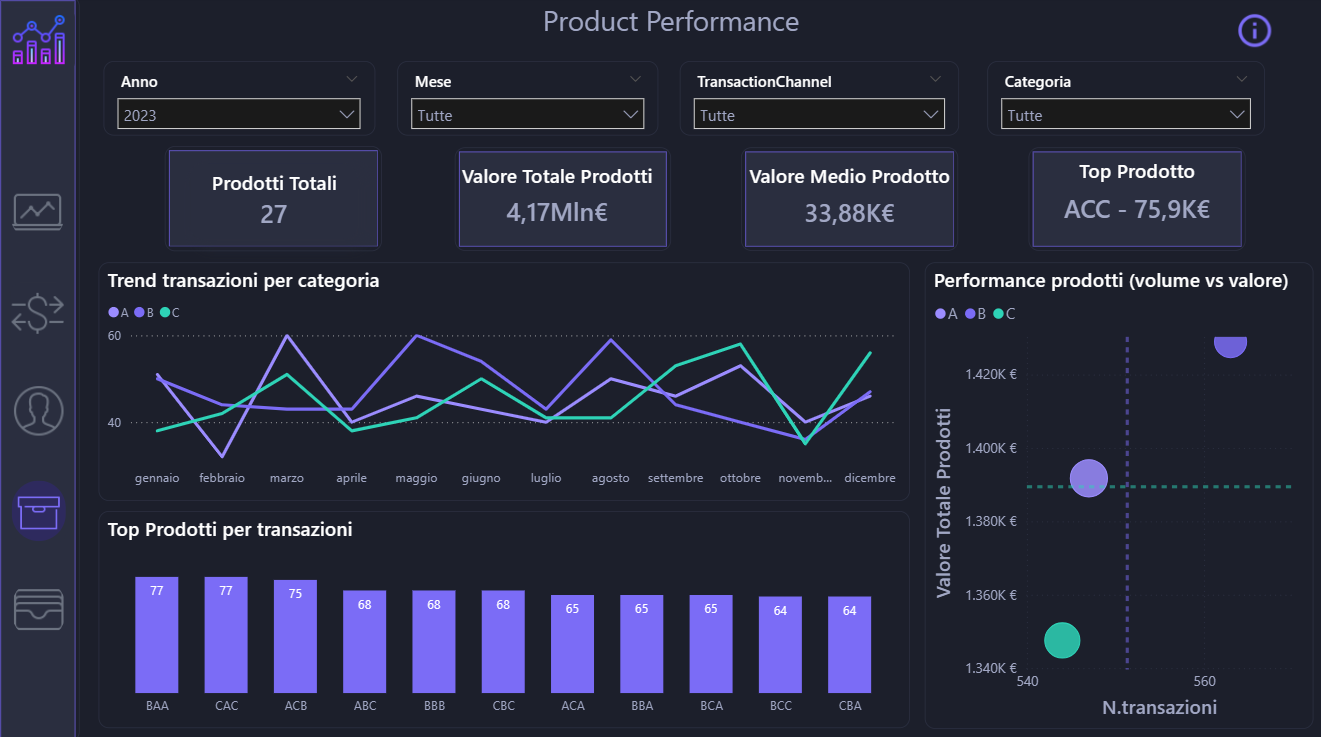

The page's visual inventory and layout, read from the dashboard file:
{"tool":"powerbi","page":{"name":"Product Performance","canvas":[1280,720],"ordinal":3},"visuals":[{"type":"shape","box":[0,0,80.8,720.2],"z":0},{"type":"image","box":[13.3,178.6,54.3,60.3],"z":1000},{"type":"image","box":[13.3,276.3,54.3,60.3],"z":2000},{"type":"image","box":[14.5,370.4,54.3,60.3],"z":3000},{"type":"image","box":[14.5,466.9,54.3,60.3],"z":4000},{"type":"image","box":[14.5,562.2,54.3,60.3],"z":5000},{"type":"textbox","box":[486.2,0,308.8,83.8],"z":6000},{"type":"slicer","fields":{"Values":["Calendario.Date.Variazione.Gerarchia data.Mese"]},"box":[387.7,62.2,252.4,71.9],"z":7000},{"type":"slicer","fields":{"Values":["Calendario.Date.Variazione.Gerarchia data.Anno"]},"box":[103.6,62.2,262.1,71.9],"z":8000},{"type":"slicer","fields":{"Values":["FactTransaction.TransactionChannel"]},"box":[659.6,62.2,269.5,71.9],"z":9000},{"type":"slicer","fields":{"Values":["DimProductCategory.ProductCategoryName"]},"box":[957.1,62.2,268.2,71.9],"z":10000},{"type":"shape","box":[162.9,144.8,209.9,101.3],"z":11000},{"type":"card","title":"Prodotti Totali","fields":{"Values":["Misure prodotti e categorie.N.prodotti"]},"box":[187,161.7,161.7,73.6],"z":12000},{"type":"shape","box":[442.8,146,208.7,100.1],"z":13000},{"type":"shape","box":[719,146,209.9,100.1],"z":14000},{"type":"card","title":"Valore Medio Prodotto","fields":{"Values":["Misure prodotti e categorie.Valore Medio Prodotto"]},"box":[719,160.5,209.9,74.8],"z":15000},{"type":"card","title":"Valore Totale Prodotti","fields":{"Values":["Misure prodotti e categorie.Valore Totale Prodotti"]},"box":[431.9,160.5,219.6,72.4],"z":16000},{"type":"lineChart","title":"Trend transazioni per categoria","fields":{"Category":["Calendario.Date.Variazione.Gerarchia data.Mese"],"Y":["Misure transazioni.N.transazioni"],"Series":["DimProductCategory.ProductCategoryName"]},"box":[98.9,257,783,230.4],"z":17000},{"type":"columnChart","title":"Top Prodotti per transazioni","fields":{"Category":["Dimproduct.ProductName"],"Y":["Misure transazioni.N.transazioni"]},"box":[98.9,497.1,783,209.9],"z":18000},{"type":"scatterChart","title":"Performance prodotti (volume vs valore)","fields":{"X":["Misure transazioni.N.transazioni"],"Y":["Misure prodotti e categorie.Valore Totale Prodotti"],"Series":["DimProductCategory.ProductCategoryName"],"Size":["Misure cliente.Valore Medio Cliente"]},"box":[896.4,257,375.2,450],"z":19000},{"type":"image","box":[6.9,11,68.6,63.1],"z":20000},{"type":"shape","box":[996.5,146,209.9,100.1],"z":21000},{"type":"card","title":"Top Prodotto","fields":{"Values":["Misure prodotti e categorie.Top Product KPI"]},"box":[996.5,155.6,209.9,76],"z":22000},{"type":"actionButton","box":[1192,9.7,45.8,47.1],"z":22001}]}

Visuals, with their boxes on the page's 1280x720 design canvas (x1, y1, x2, y2). These are canvas units, not pixel positions in the 1321x737 screenshot, which may show the page scaled, cropped or inside an application window:
shape: {"x1": 0, "y1": 0, "x2": 81, "y2": 720}
image: {"x1": 13, "y1": 179, "x2": 68, "y2": 239}
image: {"x1": 13, "y1": 276, "x2": 68, "y2": 337}
image: {"x1": 14, "y1": 370, "x2": 69, "y2": 431}
image: {"x1": 14, "y1": 467, "x2": 69, "y2": 527}
image: {"x1": 14, "y1": 562, "x2": 69, "y2": 622}
textbox: {"x1": 486, "y1": 0, "x2": 795, "y2": 84}
slicer - Calendario.Date.Variazione.Gerarchia data.Mese: {"x1": 388, "y1": 62, "x2": 640, "y2": 134}
slicer - Calendario.Date.Variazione.Gerarchia data.Anno: {"x1": 104, "y1": 62, "x2": 366, "y2": 134}
slicer - FactTransaction.TransactionChannel: {"x1": 660, "y1": 62, "x2": 929, "y2": 134}
slicer - DimProductCategory.ProductCategoryName: {"x1": 957, "y1": 62, "x2": 1225, "y2": 134}
shape: {"x1": 163, "y1": 145, "x2": 373, "y2": 246}
"Prodotti Totali" card: {"x1": 187, "y1": 162, "x2": 349, "y2": 235}
shape: {"x1": 443, "y1": 146, "x2": 652, "y2": 246}
shape: {"x1": 719, "y1": 146, "x2": 929, "y2": 246}
"Valore Medio Prodotto" card: {"x1": 719, "y1": 160, "x2": 929, "y2": 235}
"Valore Totale Prodotti" card: {"x1": 432, "y1": 160, "x2": 652, "y2": 233}
"Trend transazioni per categoria" lineChart: {"x1": 99, "y1": 257, "x2": 882, "y2": 487}
"Top Prodotti per transazioni" columnChart: {"x1": 99, "y1": 497, "x2": 882, "y2": 707}
"Performance prodotti (volume vs valore)" scatterChart: {"x1": 896, "y1": 257, "x2": 1272, "y2": 707}
image: {"x1": 7, "y1": 11, "x2": 76, "y2": 74}
shape: {"x1": 996, "y1": 146, "x2": 1206, "y2": 246}
"Top Prodotto" card: {"x1": 996, "y1": 156, "x2": 1206, "y2": 232}
actionButton: {"x1": 1192, "y1": 10, "x2": 1238, "y2": 57}
